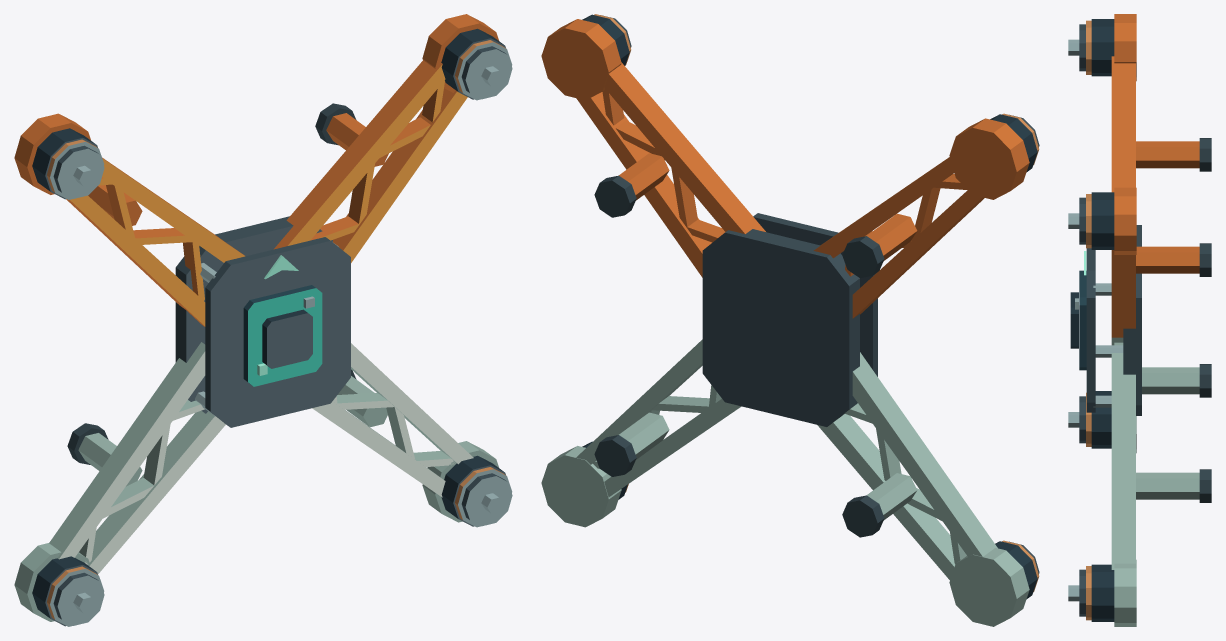
File: areion450.obj
3 views of the same model, side by side, from view 1: azimuth 30°, elevation 25°; view 2: azimuth 150°, elevation 25°; view 3: azimuth 270°, elevation 25° (orthographic). The views are drawn at different scales.
Visible parts, largest first — view 1: fuselage, arm4, arm2, arm1, arm3, flight_module, M1, M4, M2, M3; view 2: fuselage, arm4, arm2, arm1, arm3, M1, M4, M2, M3; view 3: arm3, arm1, arm2, fuselage, M2, M3, M1, arm4, M4, flight_module.
Part boxes in pixels (x1=…): fuselage: x1=175, y1=216, x2=350, y2=427; arm4: x1=49, y1=342, x2=225, y2=574; arm2: x1=273, y1=60, x2=467, y2=262; arm1: x1=66, y1=157, x2=245, y2=326; arm3: x1=312, y1=343, x2=473, y2=497; flight_module: x1=243, y1=285, x2=322, y2=386; M1: x1=14, y1=113, x2=104, y2=199; M4: x1=14, y1=543, x2=104, y2=626; M2: x1=422, y1=14, x2=512, y2=100; M3: x1=422, y1=441, x2=512, y2=527; fuselage: x1=702, y1=213, x2=877, y2=426; arm4: x1=817, y1=352, x2=997, y2=579; arm2: x1=576, y1=62, x2=765, y2=277; arm1: x1=813, y1=157, x2=984, y2=318; arm3: x1=576, y1=339, x2=741, y2=496; M1: x1=949, y1=113, x2=1039, y2=199; M4: x1=949, y1=540, x2=1039, y2=626; M2: x1=541, y1=14, x2=631, y2=100; M3: x1=541, y1=441, x2=628, y2=527; arm3: x1=1111, y1=353, x2=1211, y2=569; arm1: x1=1111, y1=56, x2=1211, y2=192; arm2: x1=1111, y1=243, x2=1211, y2=337; fuselage: x1=1086, y1=225, x2=1141, y2=415; M2: x1=1068, y1=187, x2=1136, y2=254; M3: x1=1068, y1=559, x2=1136, y2=626; M1: x1=1068, y1=14, x2=1136, y2=81; arm4: x1=1111, y1=337, x2=1211, y2=397; M4: x1=1068, y1=391, x2=1136, y2=453; flight_module: x1=1070, y1=270, x2=1086, y2=370.
Bounding box in the file's own units: 1.82 × 1.81 × 0.544.
